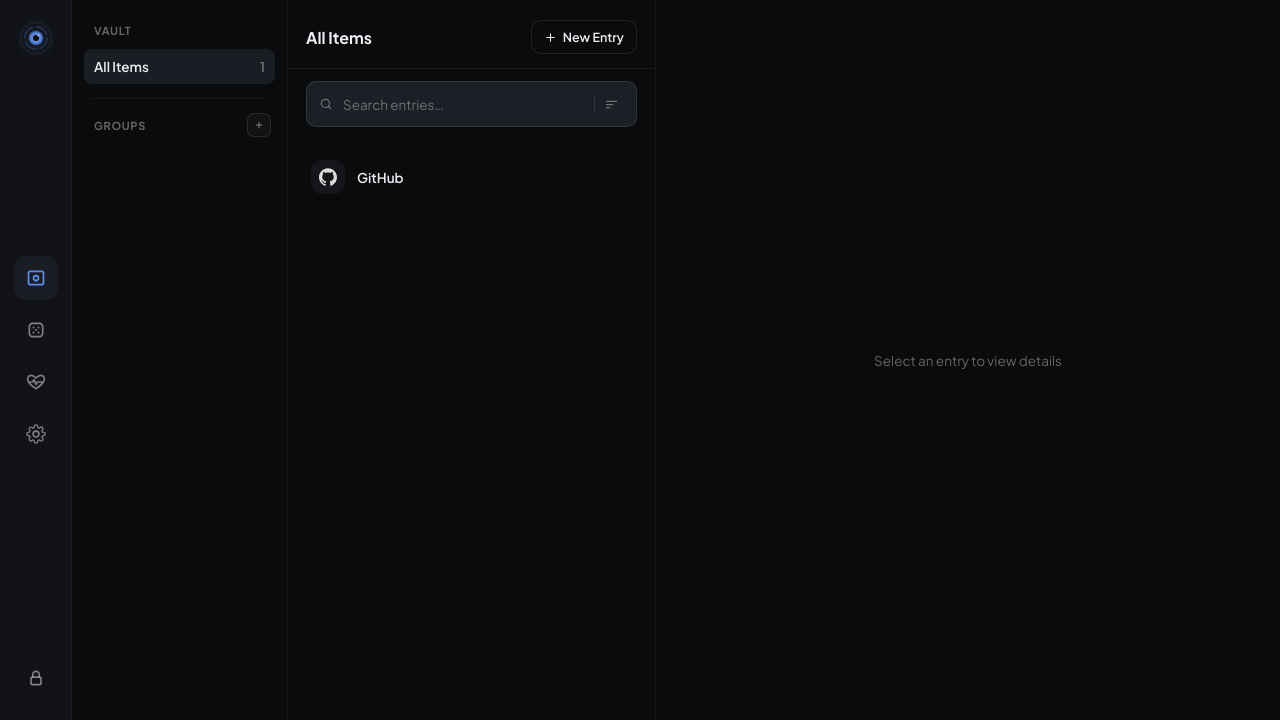
Test: VaultShell › shows a no-match message while searching, and clears the search via the clear button
Step 1. Type "nonexistent" into the field labelled "Search entries" → [466, 104], box [341,94,590,114]
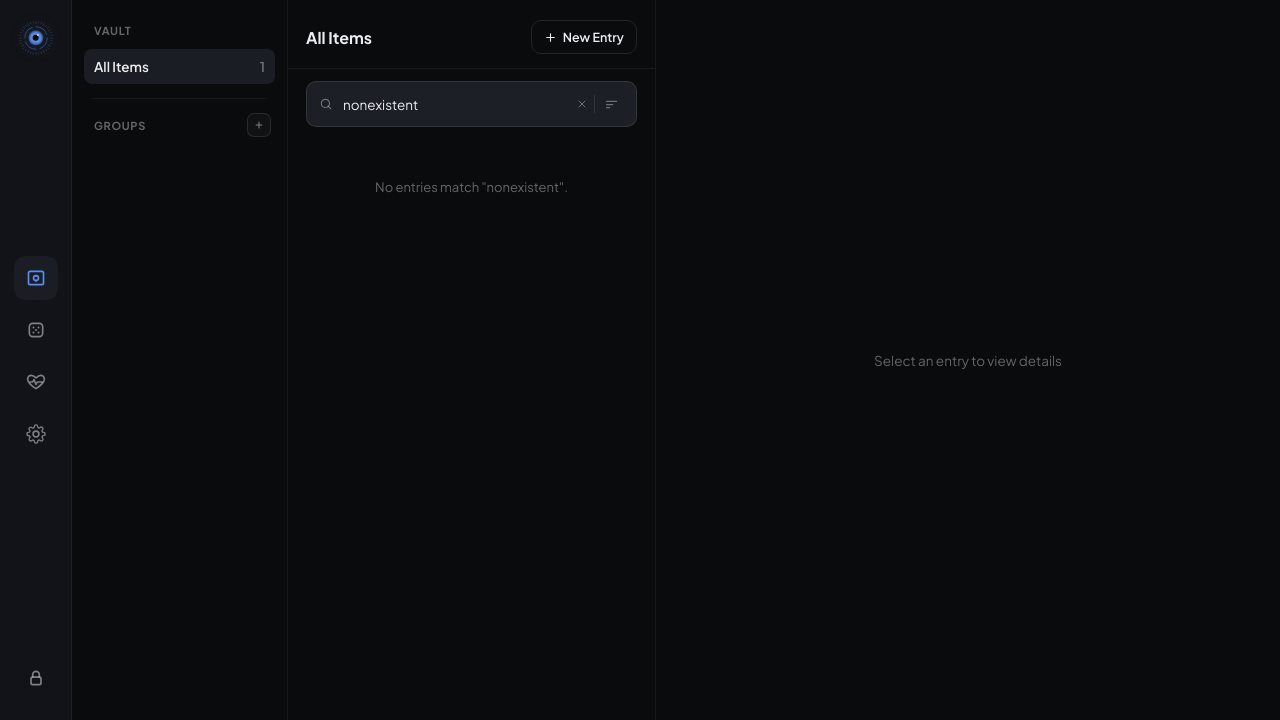
Result: the text "No entries match \"nonexistent\"." is shown at [375,179,568,195]
Result: the button "GitHub" is gone
Step 2. Click the button named "Clear search" → [582, 104], box [574,96,590,112]
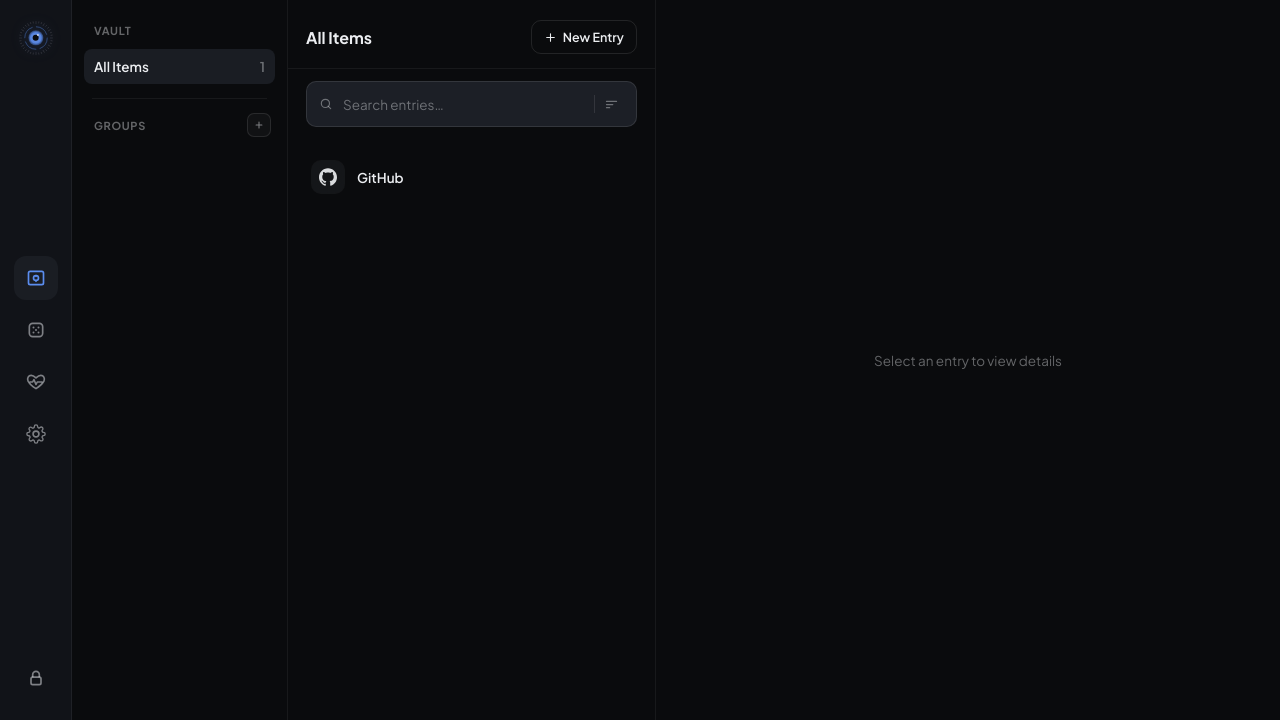
Result: the text "GitHub" is shown at [357,168,404,186]
Result: the field labelled "Search entries" is empty at [341,94,590,114]
